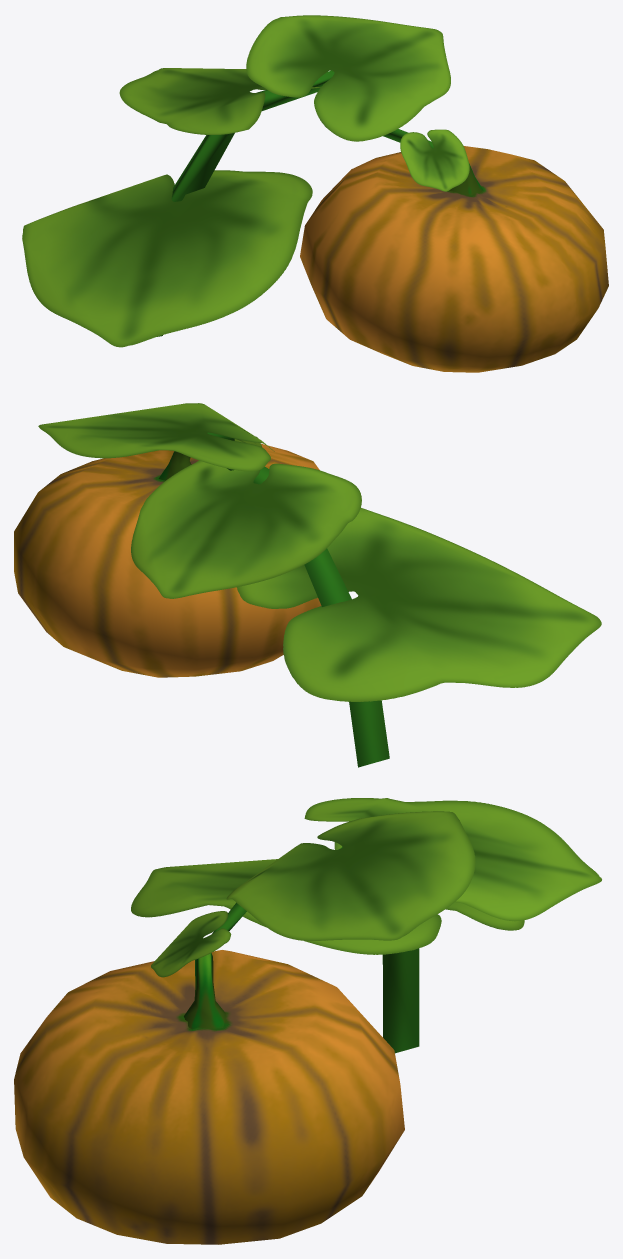
Rendered from pumpkin.obj.
3 renders of one model, top to bottom at view 1: azimuth 30°, elevation 25°; view 2: azimuth 150°, elevation 25°; view 3: azimuth 270°, elevation 25°, orthographic. The views are drawn at different scales.
Parts seen in each view (by area): view 1: Pumpkin_Plants; view 2: Pumpkin_Plants; view 3: Pumpkin_Plants.
Part boxes in pixels (x1,y1,x2,y2): Pumpkin_Plants: [22, 15, 608, 372]; Pumpkin_Plants: [14, 403, 601, 767]; Pumpkin_Plants: [14, 798, 601, 1244].
Size of the model in its own units: 1.06 by 0.5367 by 0.8639.
